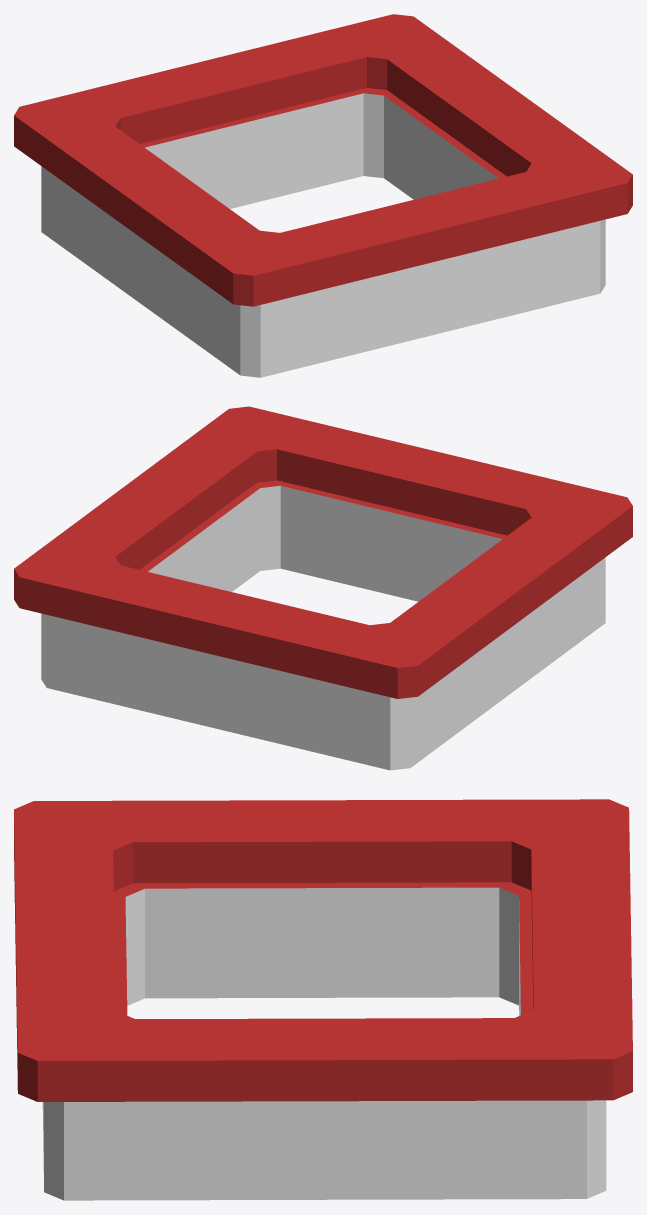
The model's file is RBin1.fbx.
3 views of the same model, one above another, from view 1: azimuth 30°, elevation 25°; view 2: azimuth 150°, elevation 25°; view 3: azimuth 270°, elevation 25° (orthographic). The views are drawn at different scales.
Visible parts, largest first — view 1: pPipe1; view 2: pPipe1; view 3: pPipe1.
Part boxes in pixels (x1,y1,x2,y2): pPipe1: [14, 14, 632, 377]; pPipe1: [14, 406, 632, 770]; pPipe1: [14, 799, 632, 1200].
Bounding box in the file's own units: 49.2 × 13.23 × 49.2.
